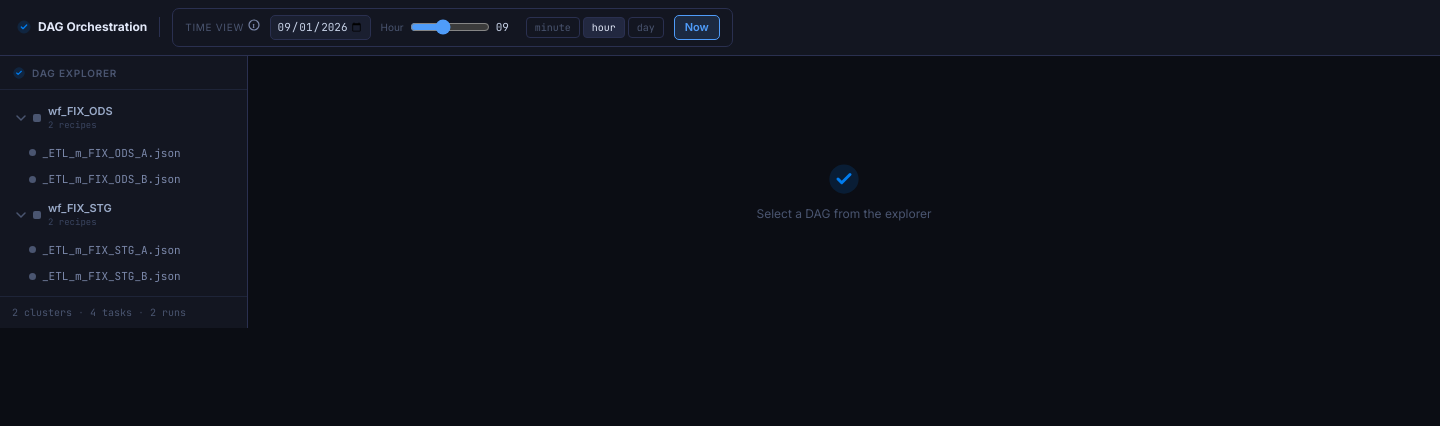
Test: ETLDag — real run selector, per-date coloring, GCP links, replay-mock › (f) a failed run-history fetch says so, instead of rendering an empty/PENDING strip
Click the text "wf_FIX_ODS": (80, 110) [48,104,113,118]
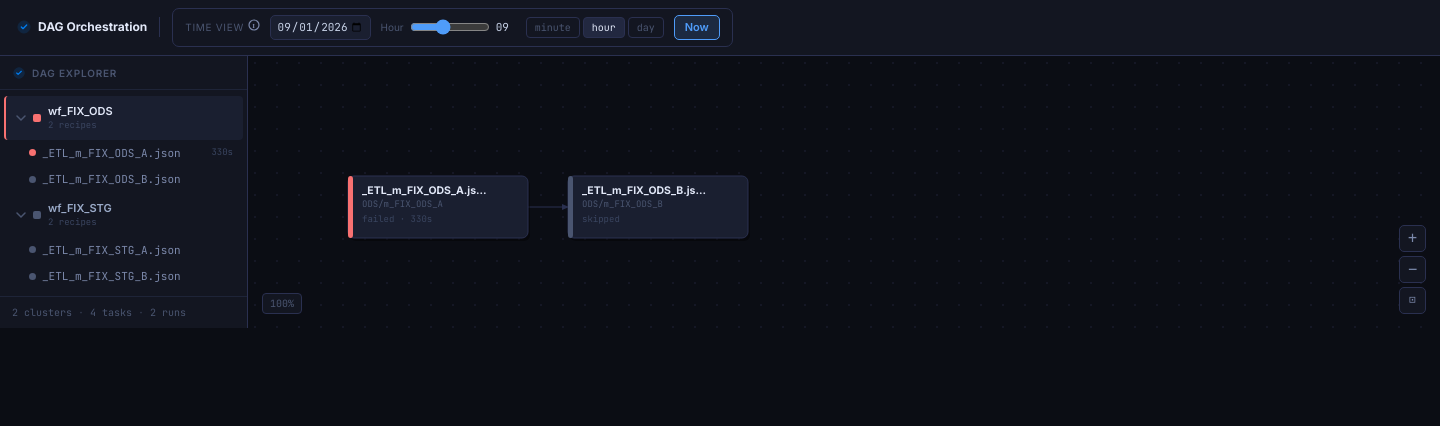
Click the text "_ETL_m_FIX_ODS_A.json": (111, 152) [42,146,181,160]
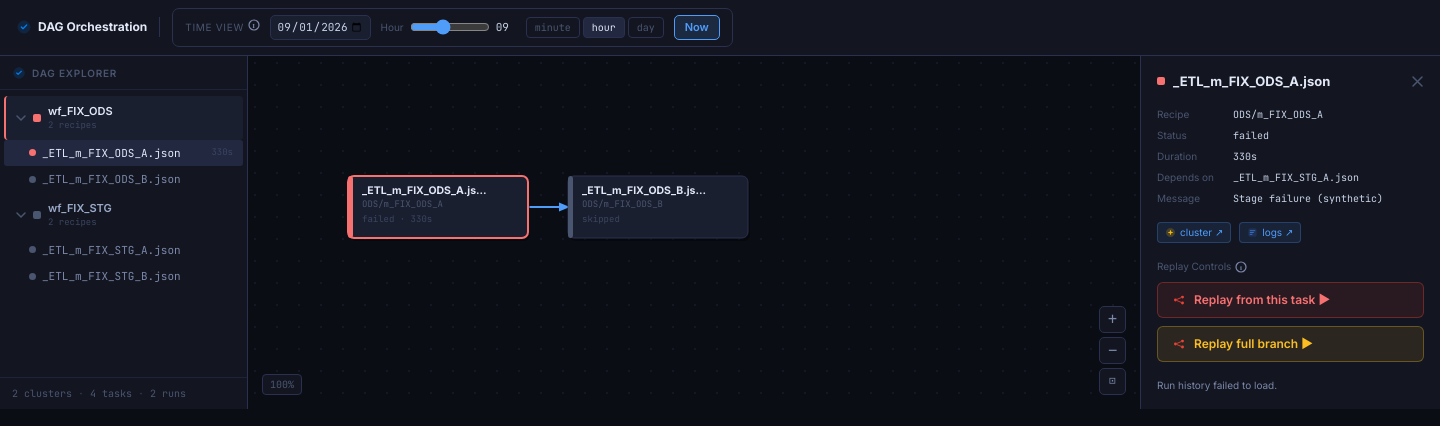
Expected: the text "Run history failed to load." is shown, [1157,379,1277,391]
